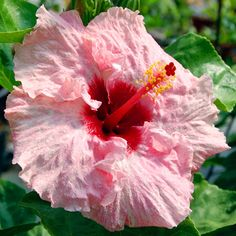Hibiscus: (11, 13, 221, 228)
